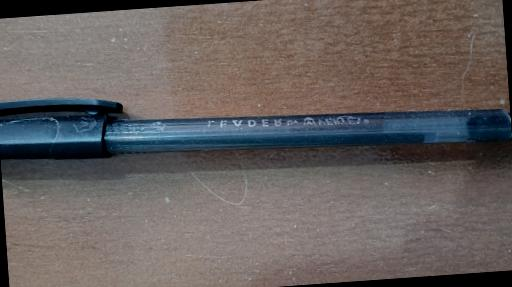pen: (0, 67, 512, 175)
